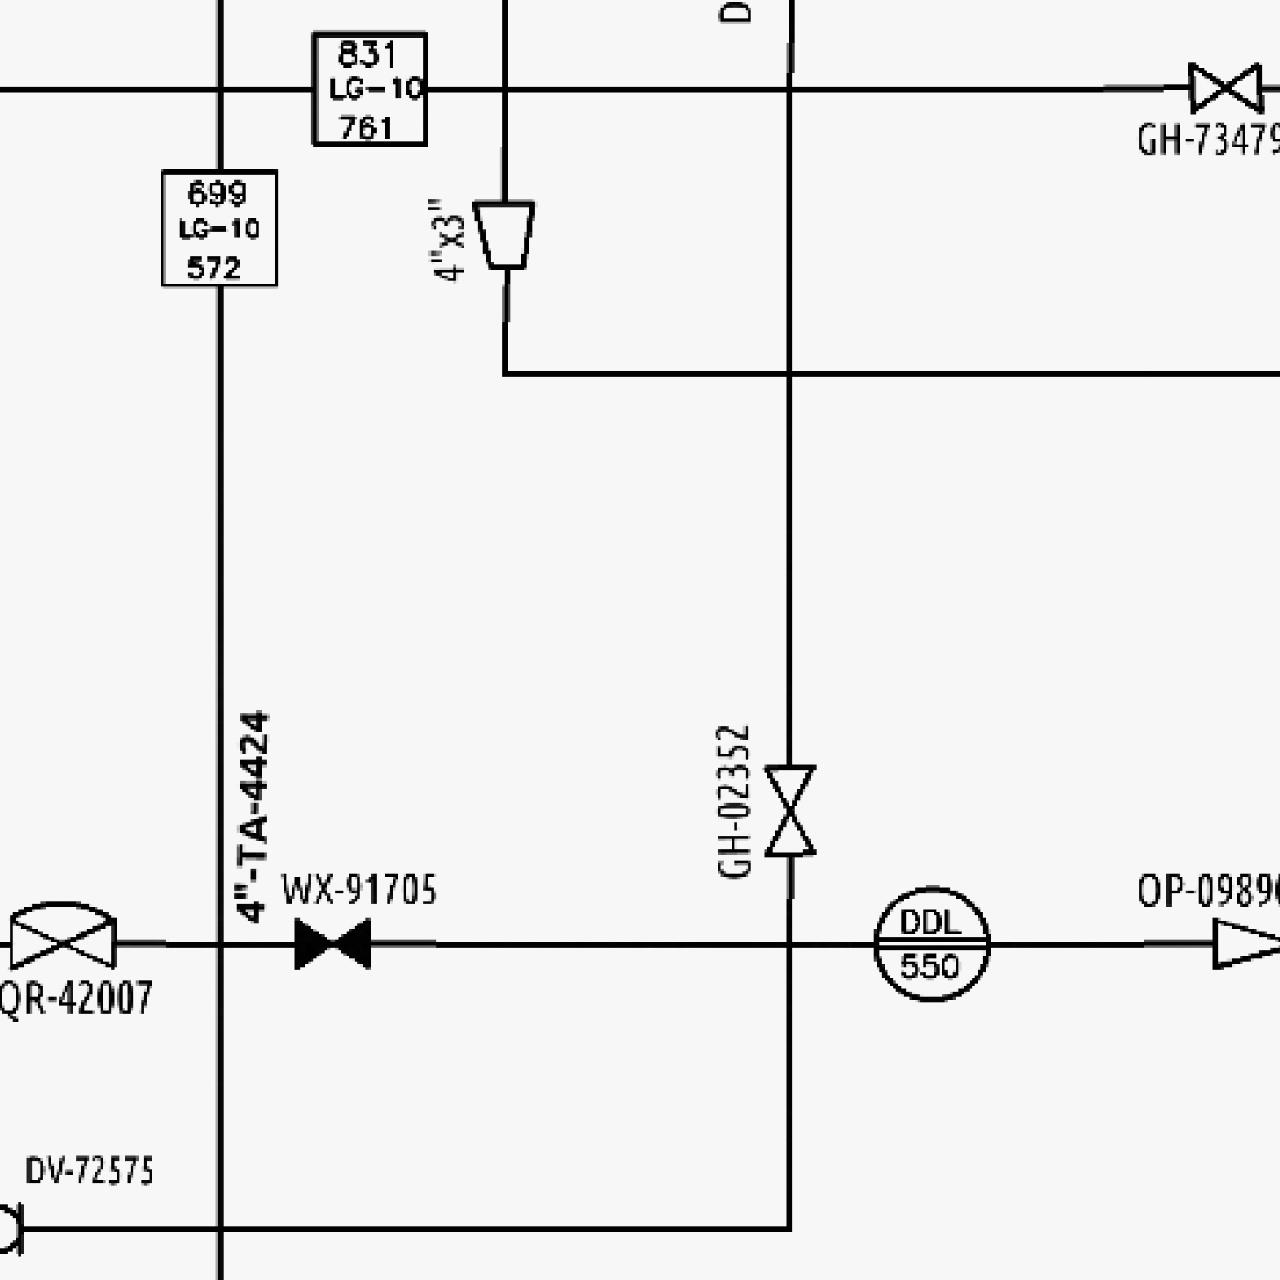Control-Panel: (867, 880, 995, 1006)
